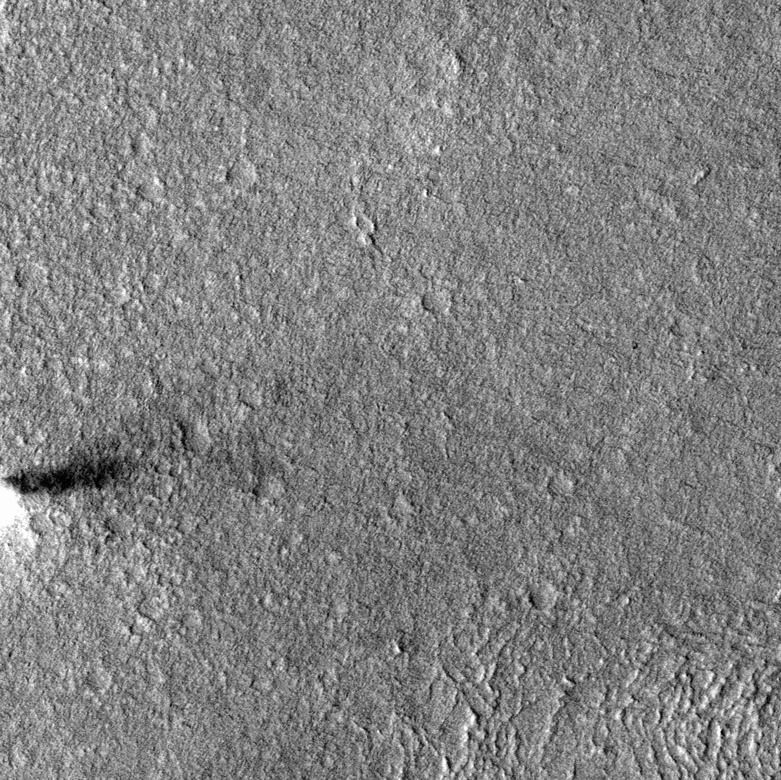dust_devil: (1, 451, 128, 528)
